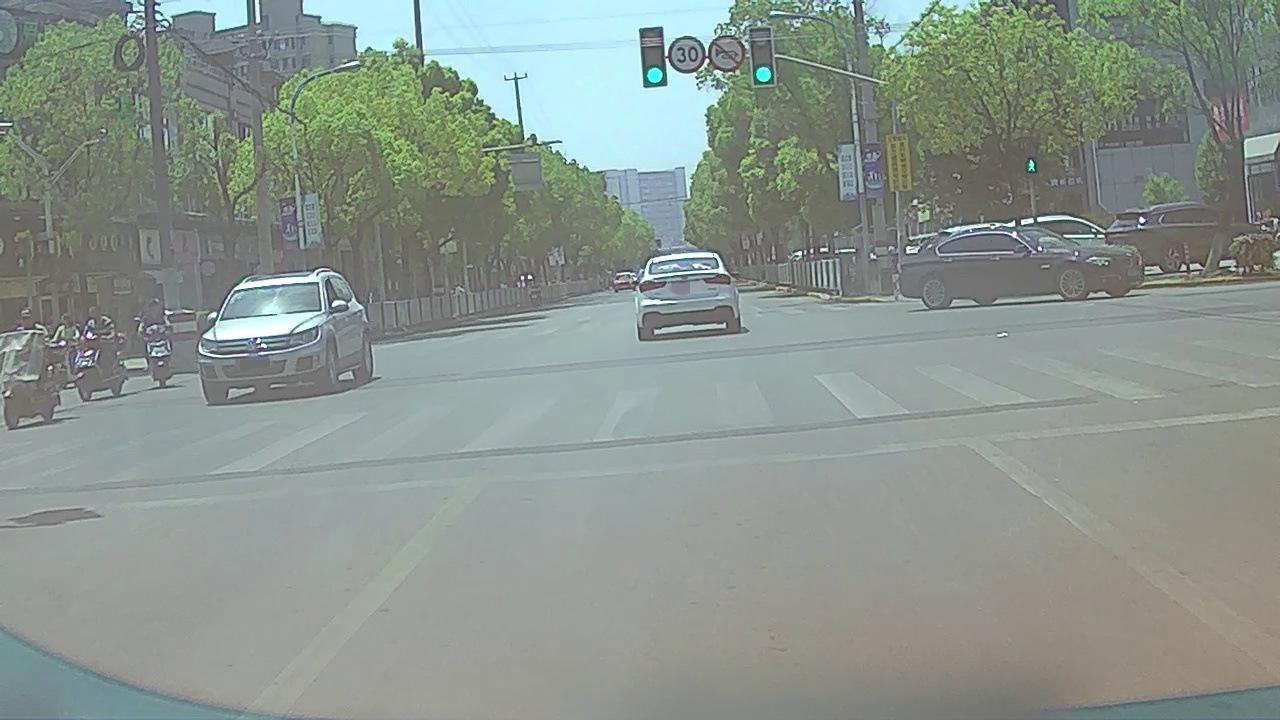traffic_light: (750, 28, 774, 84), (643, 29, 664, 85)
